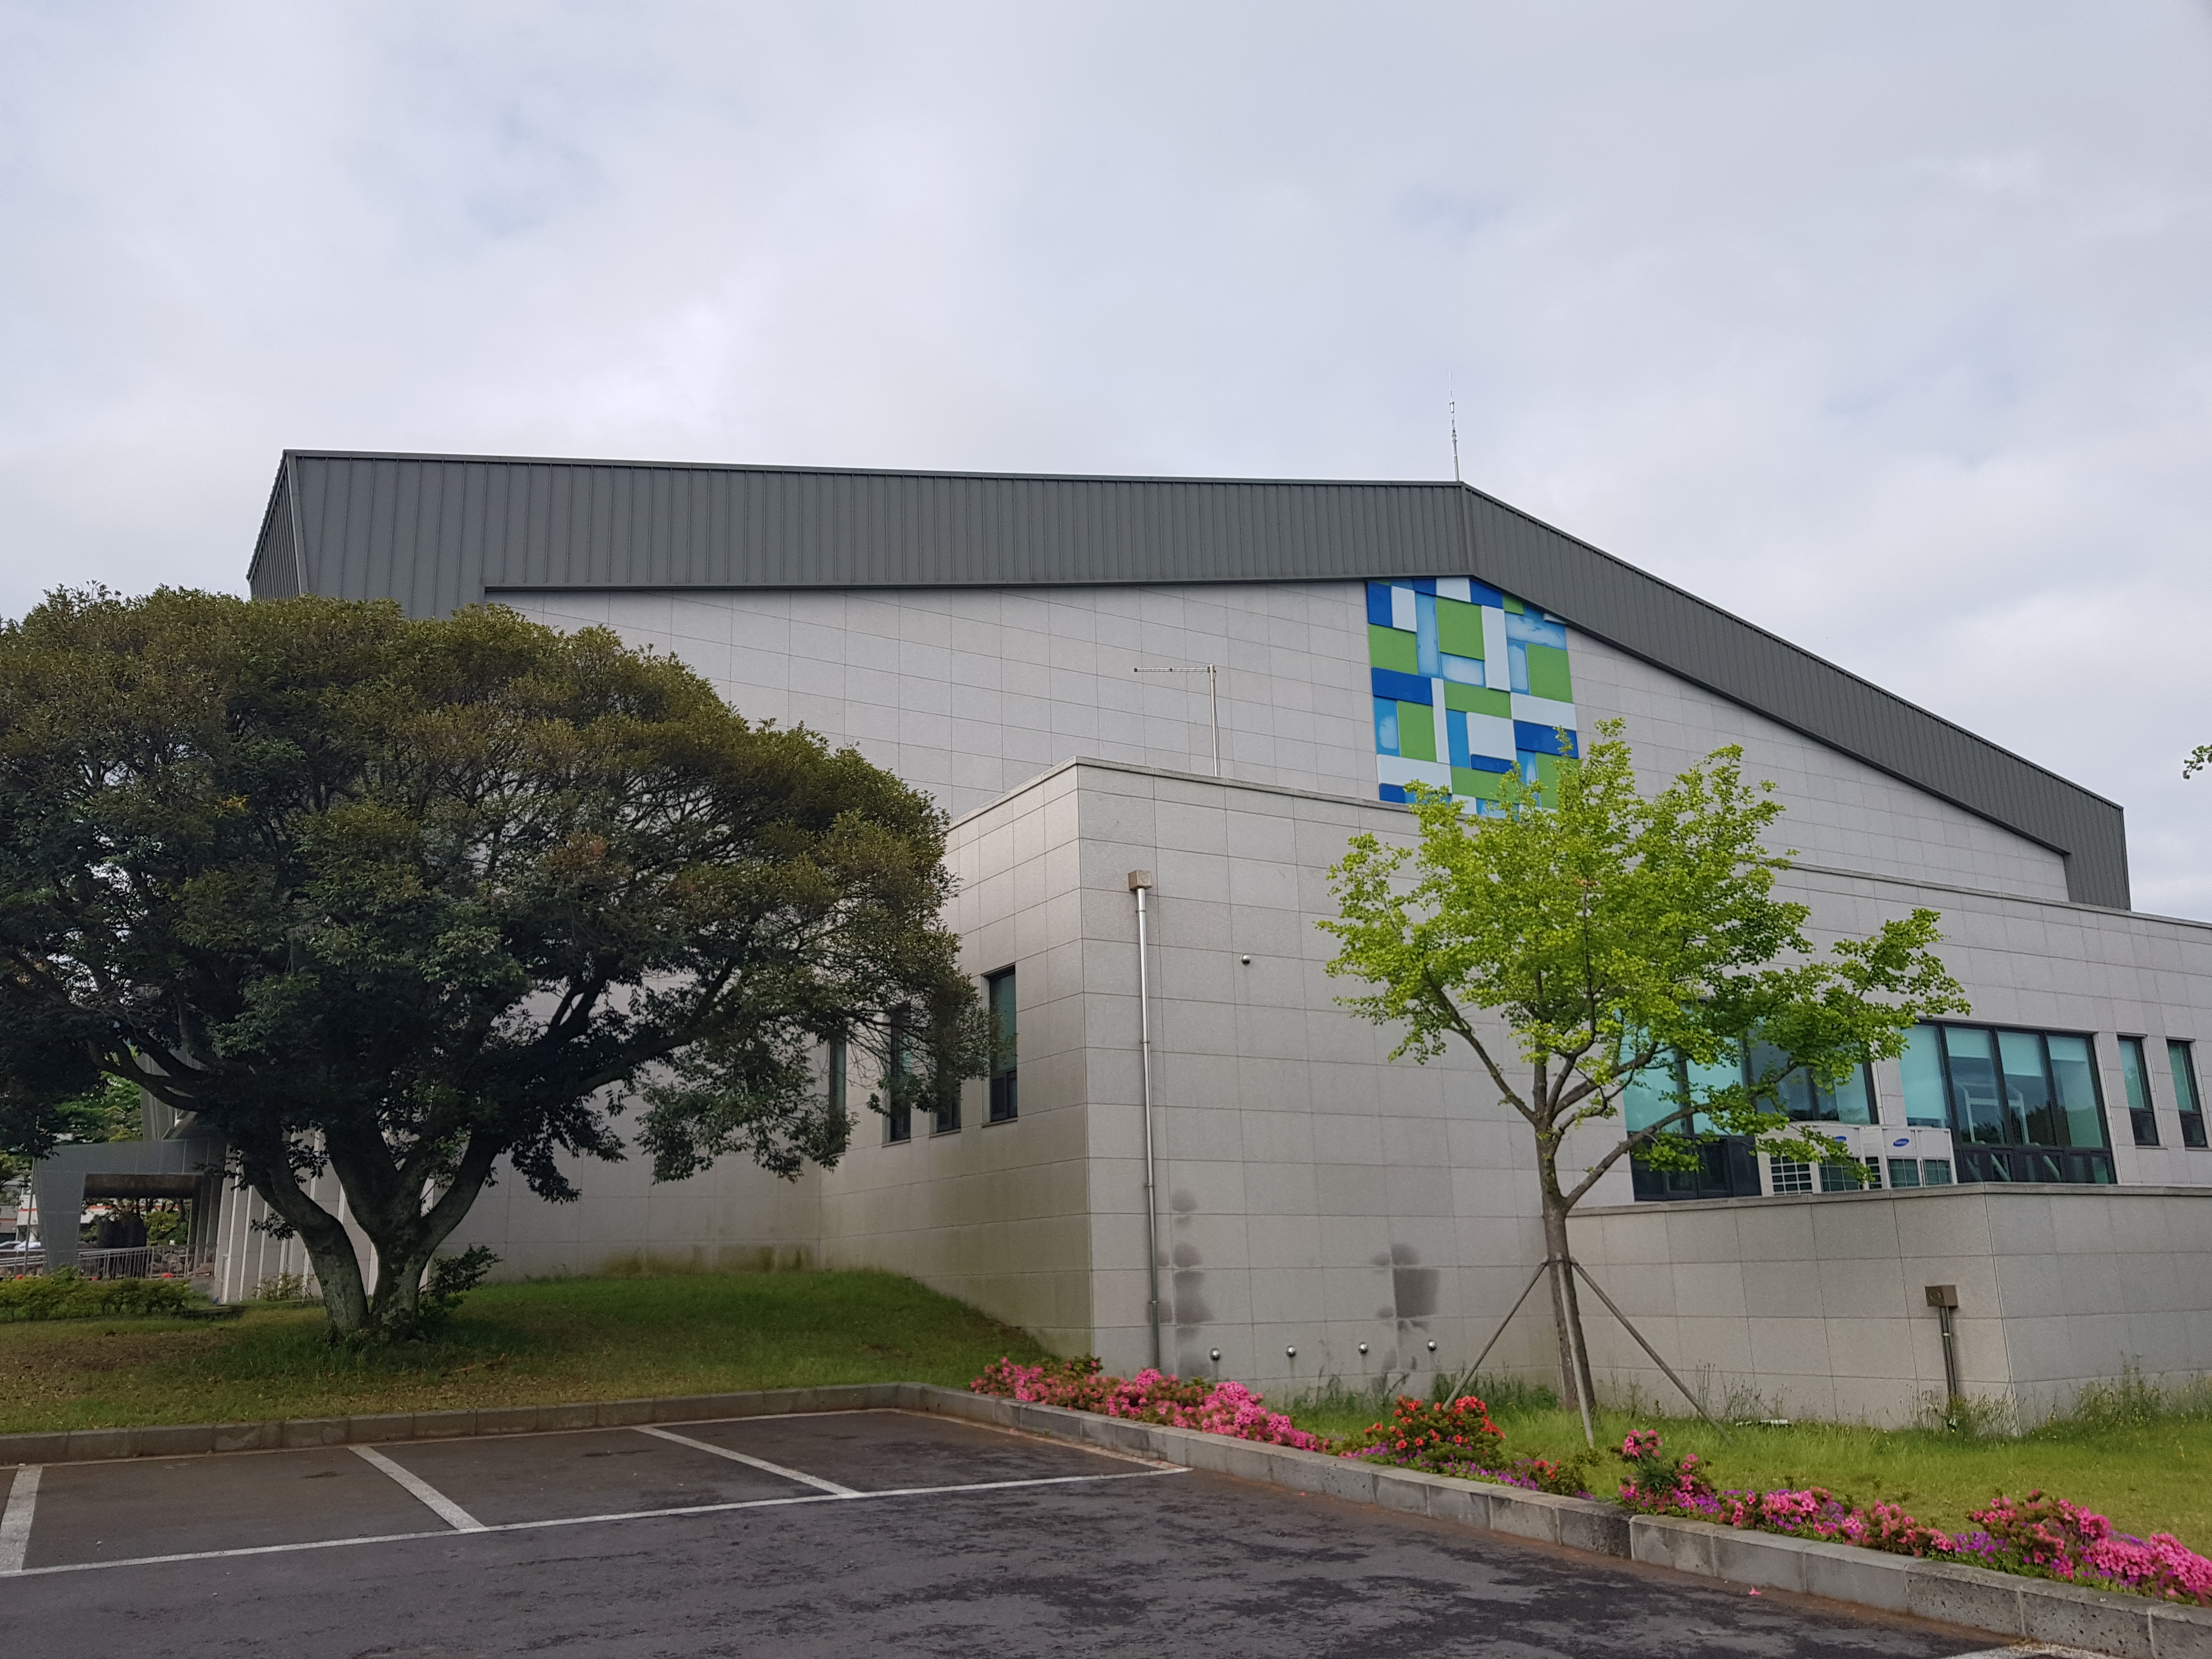Gym: (275, 347, 2151, 1429), (1310, 519, 1606, 863)
